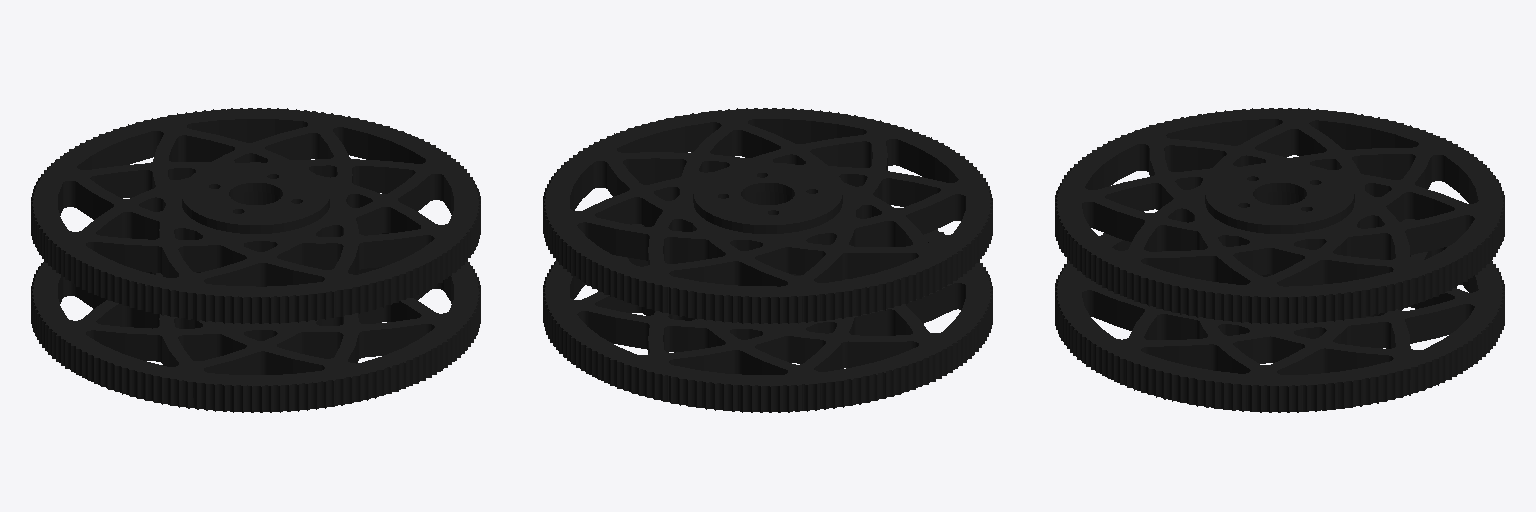
Rendered from JaguarWheel.obj.
3 renders of one model, left to right at view 1: azimuth 30°, elevation 25°; view 2: azimuth 150°, elevation 25°; view 3: azimuth 270°, elevation 25°, orthographic.
Visible parts, largest first — view 1: default; view 2: default; view 3: default.
Boxes of the visible parts, <box> form: default: <box>31,108,480,412</box>; default: <box>543,108,992,412</box>; default: <box>1055,108,1504,412</box>.
Bounding box in the file's own units: 1.78 × 0.5411 × 1.78.